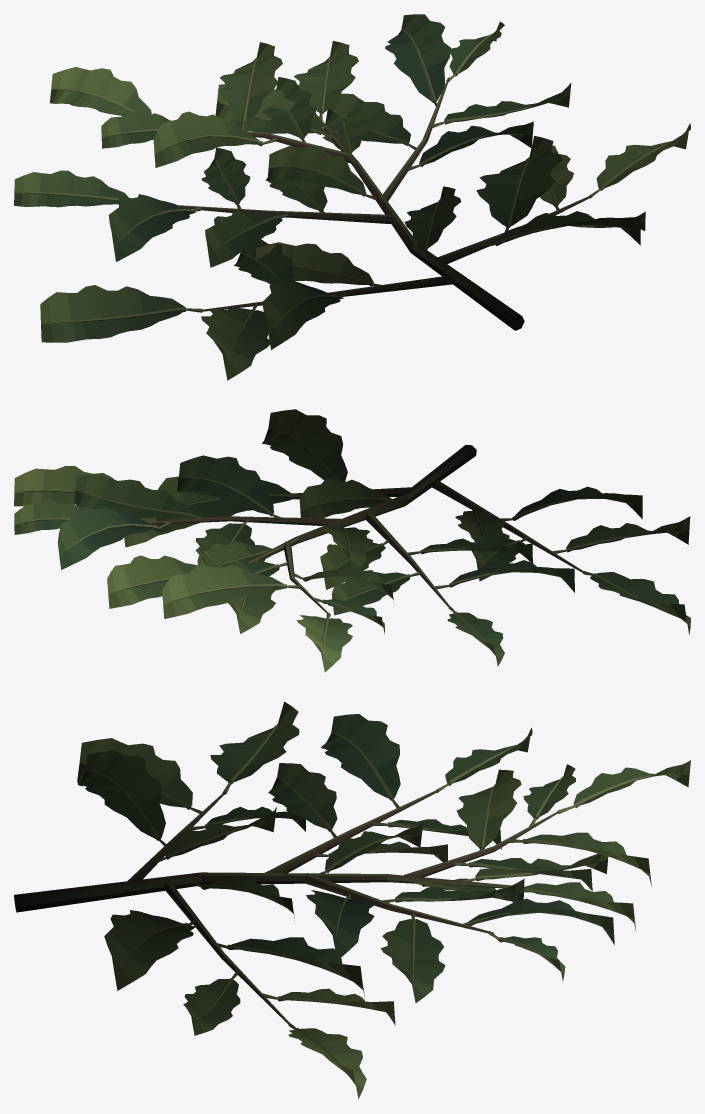
Rendered from Oak_Spray_Fan.fbx.
3 renders of one model, top to bottom at view 1: azimuth 30°, elevation 25°; view 2: azimuth 150°, elevation 25°; view 3: azimuth 270°, elevation 25°, orthographic. The views are drawn at different scales.
Parts seen in each view (by area): view 1: Oak_Spray_Fan; view 2: Oak_Spray_Fan; view 3: Oak_Spray_Fan.
Boxes of the visible parts, box(x1,y1,x2,y2) form: Oak_Spray_Fan: box(14, 14, 690, 380); Oak_Spray_Fan: box(14, 409, 690, 672); Oak_Spray_Fan: box(14, 701, 690, 1098).
Bounding box in the file's own units: 1.05 × 0.1465 × 0.8359.
